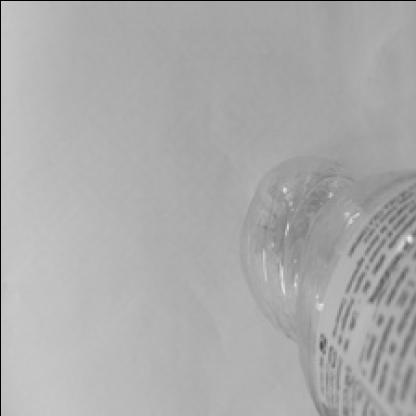plastic_bottles: (210, 136, 416, 416)
